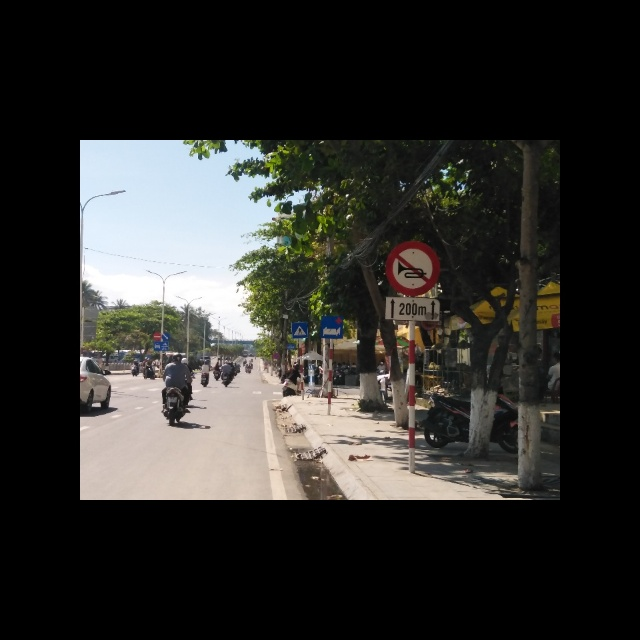Bệnh viện: (321, 314, 344, 340)
Cấm bấm còi: (385, 240, 441, 294)
Đường dành cho người đi bộ: (292, 322, 309, 338)
